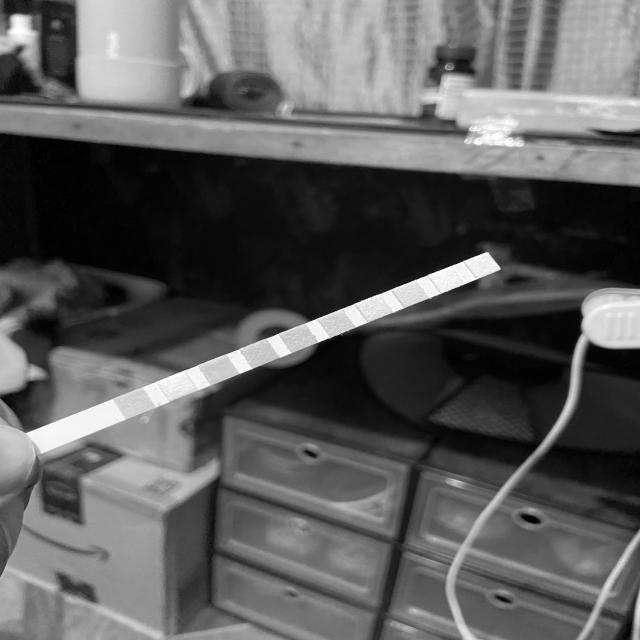Bilirubin: (165, 378, 188, 395)
Blood: (287, 330, 309, 346)
Glucose: (122, 395, 145, 412)
Ketone: (206, 362, 228, 378)
Leukocytes: (474, 258, 492, 273)
Nitrite: (438, 270, 457, 288)
Protein: (365, 300, 383, 316)
SpGravity: (248, 346, 270, 362)
Urobilinogen: (402, 285, 419, 302)
background: (0, 0, 640, 640)
pH: (327, 315, 346, 331)
strip: (31, 252, 501, 451)
